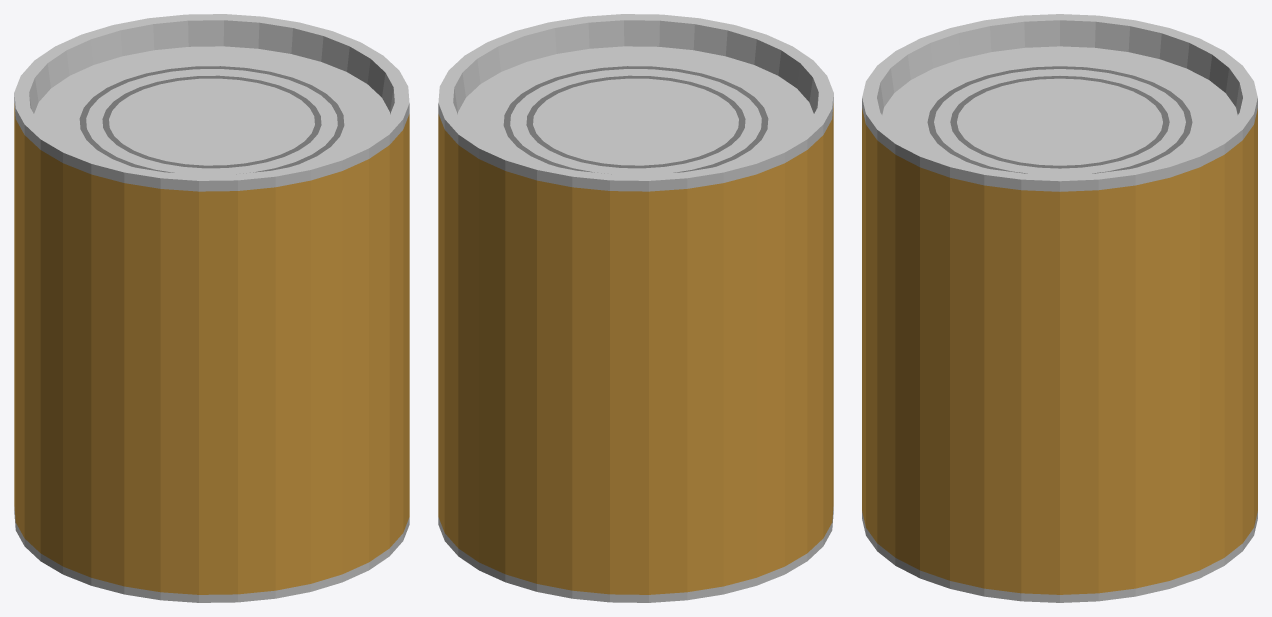
Rendered from LargeCanV1.fbx.
3 views of the same model, side by side, from view 1: azimuth 30°, elevation 25°; view 2: azimuth 150°, elevation 25°; view 3: azimuth 270°, elevation 25° (orthographic).
Visible parts, largest first — view 1: Cylinder; view 2: Cylinder; view 3: Cylinder.
Boxes of the visible parts, box(x1,y1,x2,y2) form: Cylinder: box(14, 14, 409, 602); Cylinder: box(438, 14, 833, 602); Cylinder: box(862, 14, 1257, 602).
Bounding box in the file's own units: 200 × 200 × 235.
